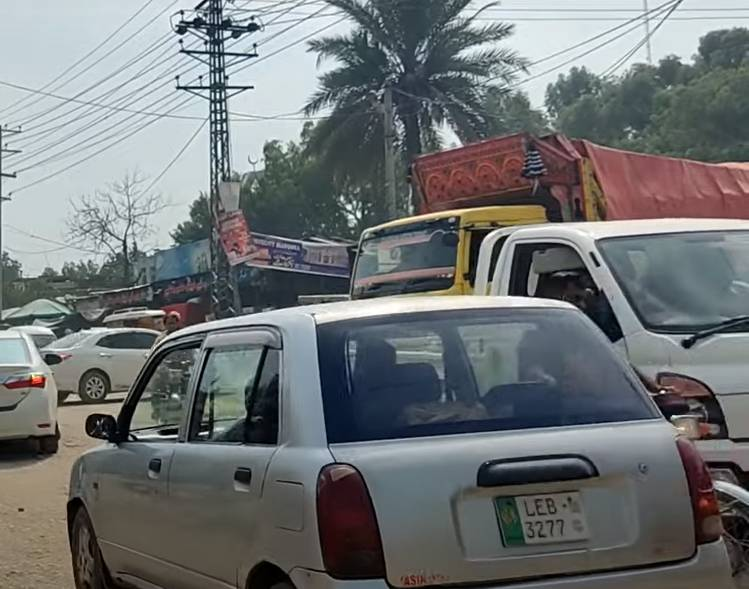number_plate: (495, 490, 601, 546)
